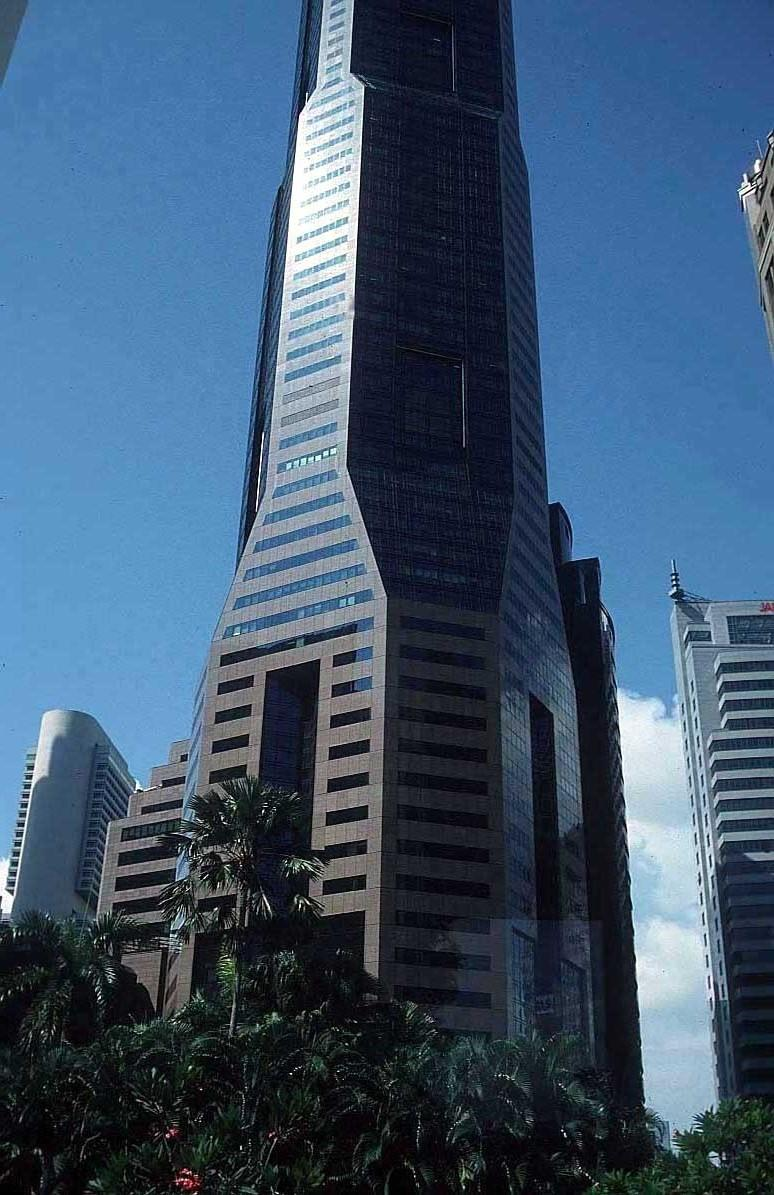building: (94, 0, 644, 1107), (667, 557, 774, 1195), (2, 703, 147, 965), (741, 127, 774, 362)
